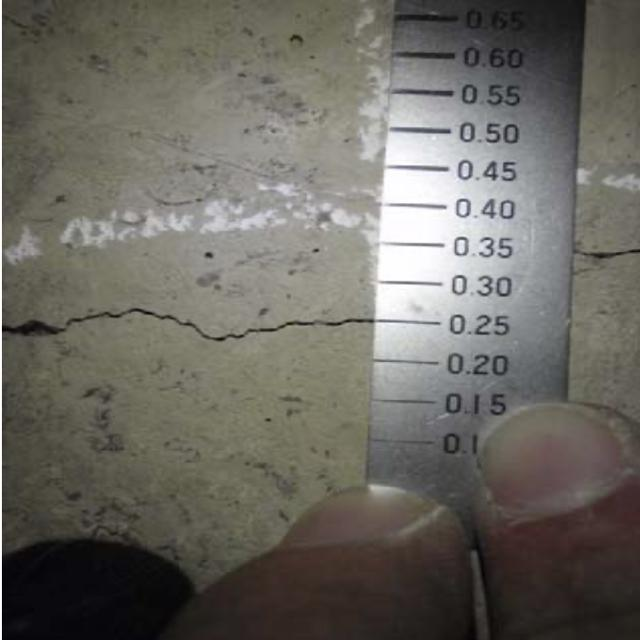crack: (8, 296, 376, 353), (570, 216, 640, 274)
